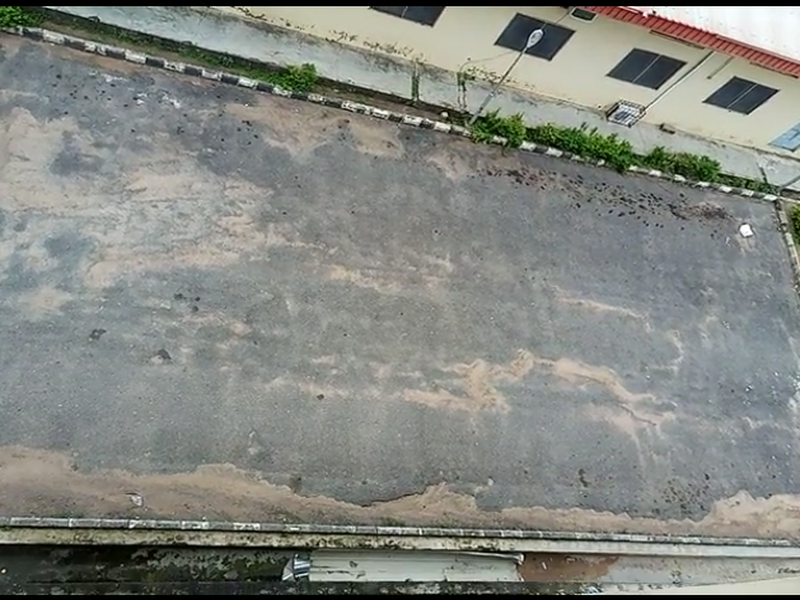five: (683, 159, 800, 346)
four: (539, 126, 638, 318)
one: (1, 15, 133, 234)
three: (356, 108, 483, 295)
two: (177, 59, 318, 252)
